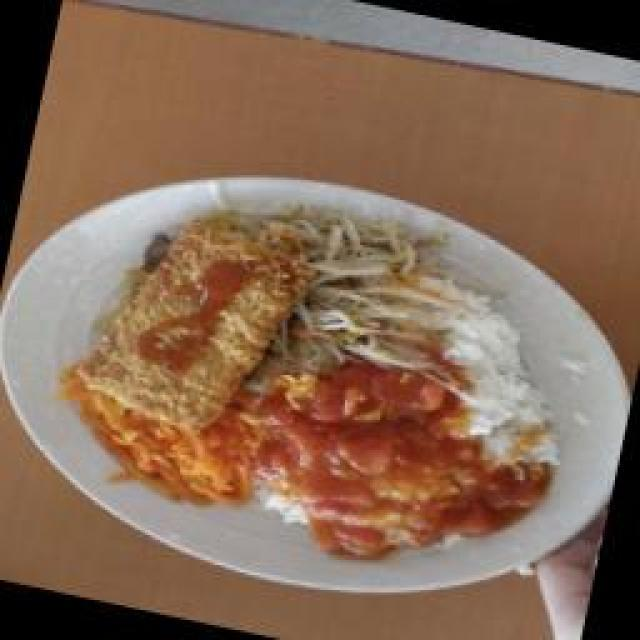carrot_eggs: (112, 405, 250, 493)
mung_bean_sprouts: (290, 213, 420, 353)
rice: (438, 310, 538, 400)
triangle_hash_brown: (98, 223, 298, 413)
